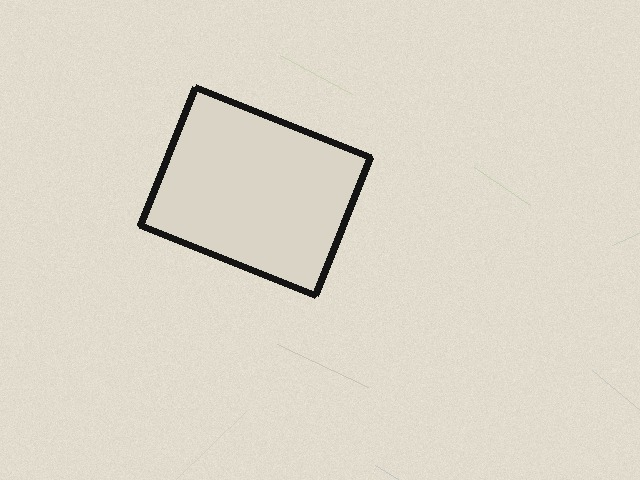parking_area: (140, 87, 370, 295)
